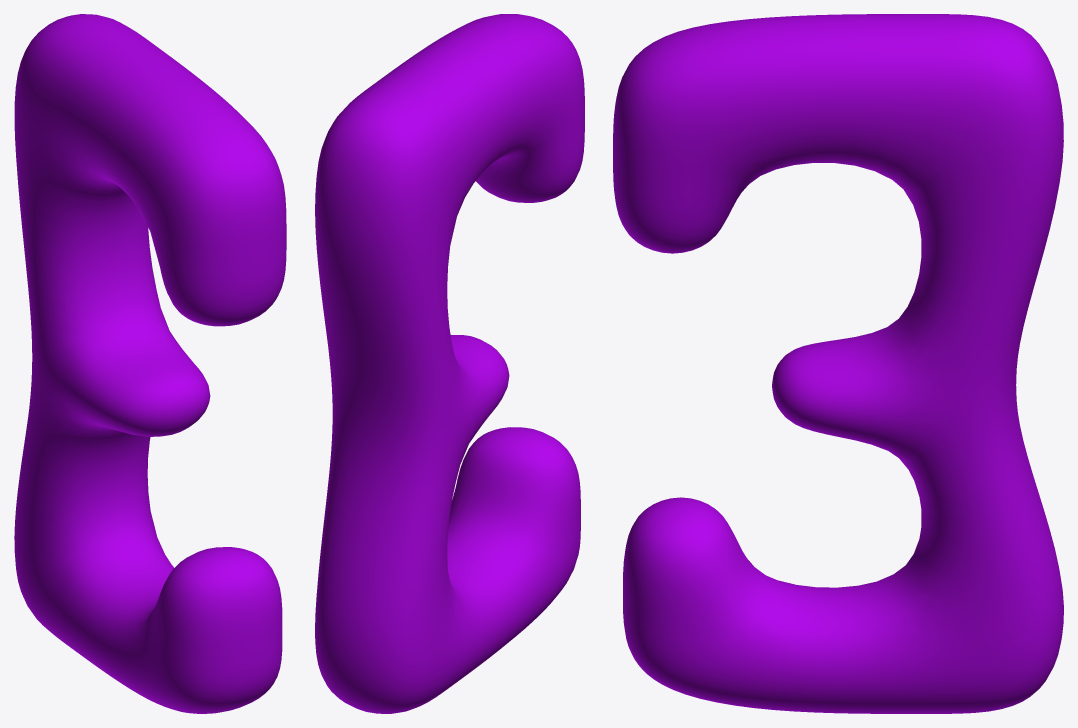
Rendered from ThreeBalloon.fbx.
The picture shows the model from 3 angles, left to right: view 1: azimuth 30°, elevation 25°; view 2: azimuth 150°, elevation 25°; view 3: azimuth 270°, elevation 25°; orthographic projection. The views are drawn at different scales.
Visible parts, largest first — view 1: Three; view 2: Three; view 3: Three.
Boxes of the visible parts, x1=… form: Three: x1=14, y1=14, x2=286, y2=713; Three: x1=315, y1=14, x2=584, y2=713; Three: x1=613, y1=14, x2=1063, y2=713.
Bounding box in the file's own units: 14.56 × 73.95 × 44.24.
